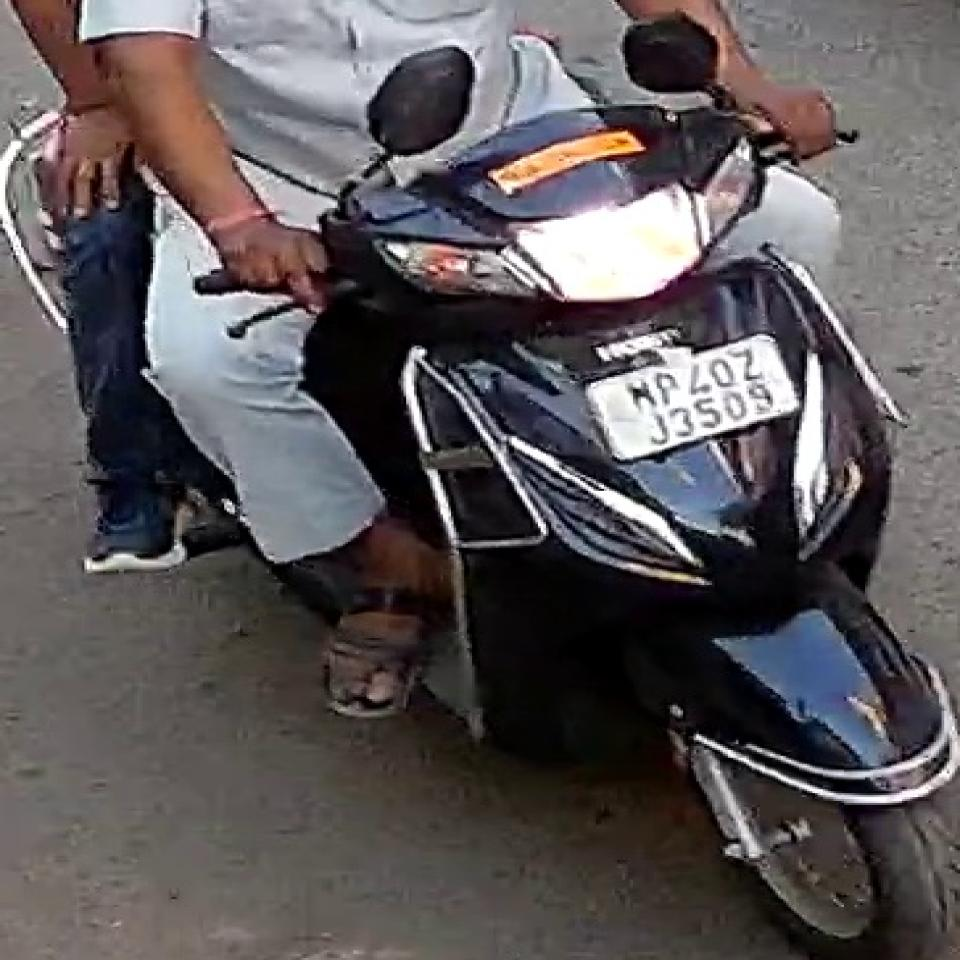head_light: (508, 174, 710, 302)
